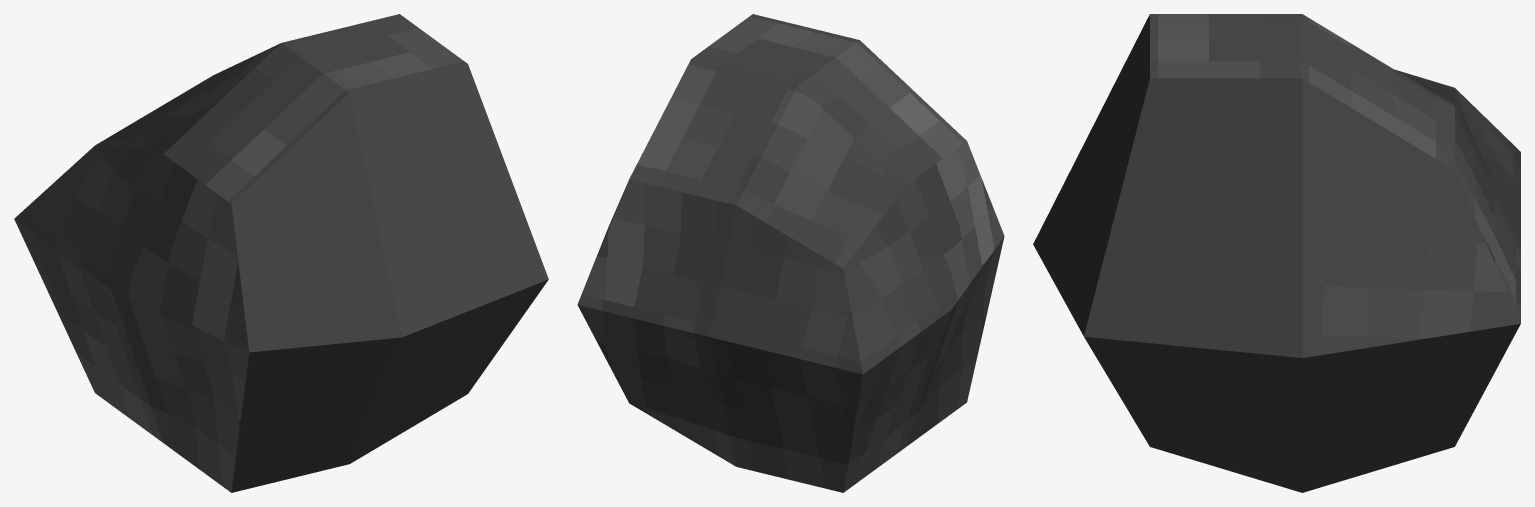
Rendered from StoneItem.obj.
3 views of the same model, side by side, from view 1: azimuth 30°, elevation 25°; view 2: azimuth 150°, elevation 25°; view 3: azimuth 270°, elevation 25° (orthographic). The views are drawn at different scales.
Visible parts, largest first — view 1: Stone; view 2: Stone; view 3: Stone.
Part boxes in pixels (x1,y1,x2,y2): Stone: [14, 14, 548, 492]; Stone: [577, 14, 1004, 492]; Stone: [1033, 14, 1520, 492].
Bounding box in the file's own units: 0.6 × 0.5625 × 0.6.
Materials: 1 (1 with a texture image).
